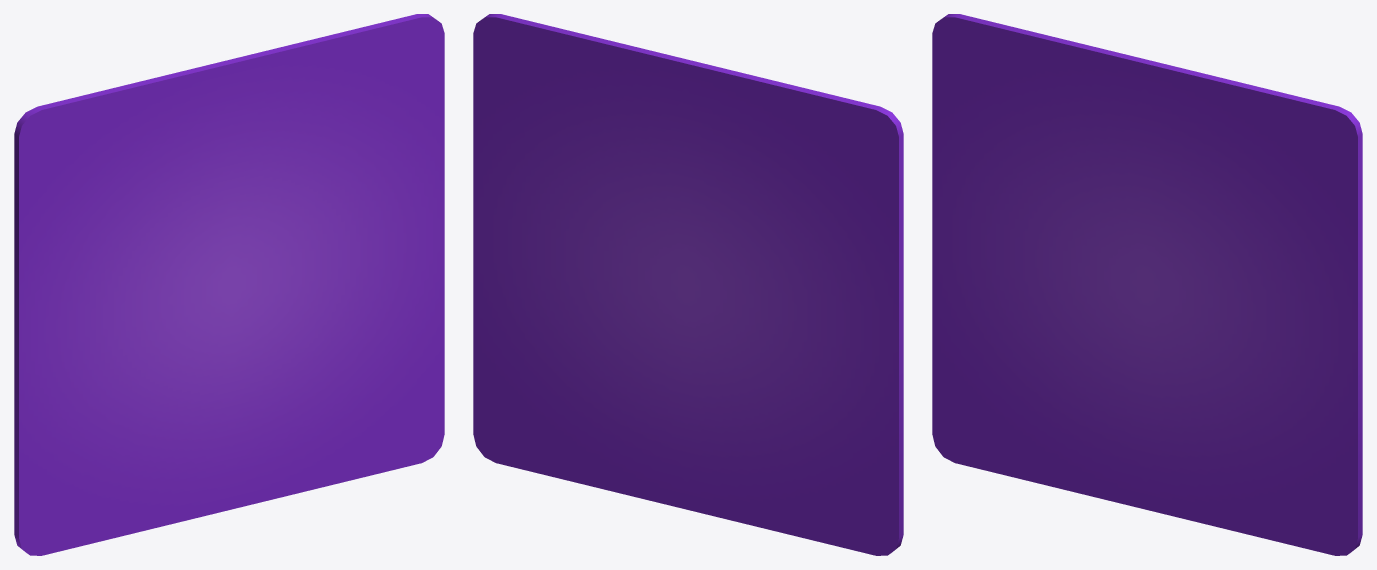
The model's file is rarity_bg_legendary.glb.
The picture shows the model from 3 angles, left to right: view 1: azimuth 30°, elevation 25°; view 2: azimuth 150°, elevation 25°; view 3: azimuth 330°, elevation 25°; orthographic projection.
Visible parts, largest first — view 1: rarity_bg_legendary; view 2: rarity_bg_legendary; view 3: rarity_bg_legendary.
Boxes of the visible parts, x1=… form: rarity_bg_legendary: x1=14, y1=14, x2=444, y2=555; rarity_bg_legendary: x1=473, y1=14, x2=903, y2=555; rarity_bg_legendary: x1=932, y1=14, x2=1362, y2=555.
Size of the model in its own units: 1 by 1 by 0.0187.
1 material, 1 textured.
